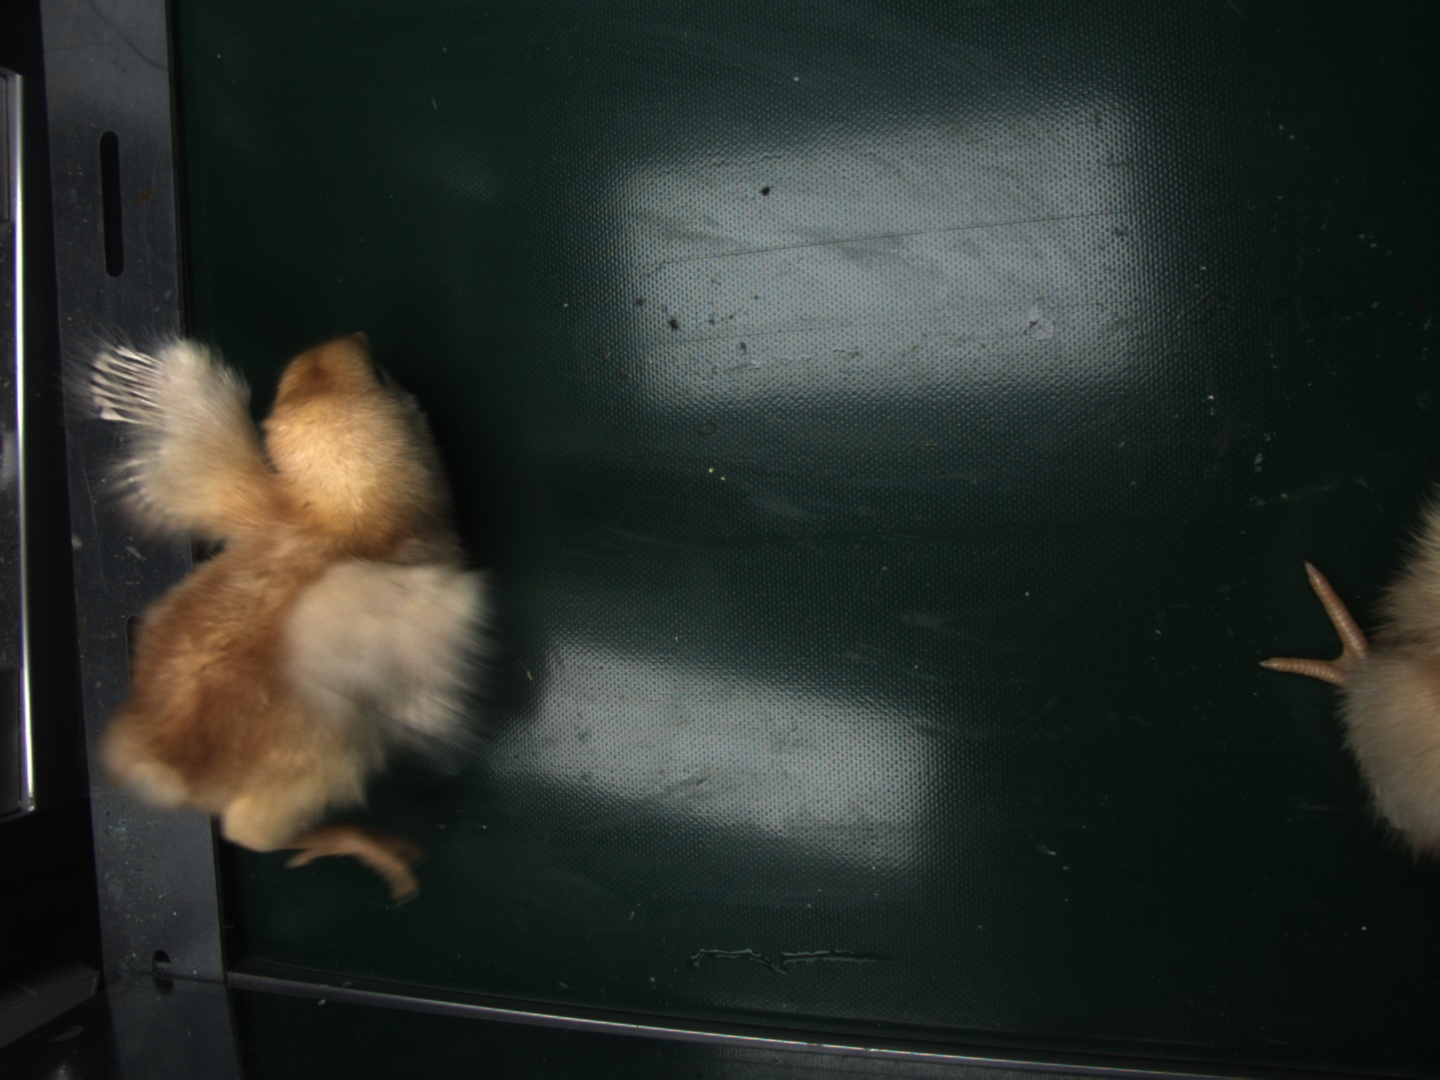female: (88, 340, 169, 431)
